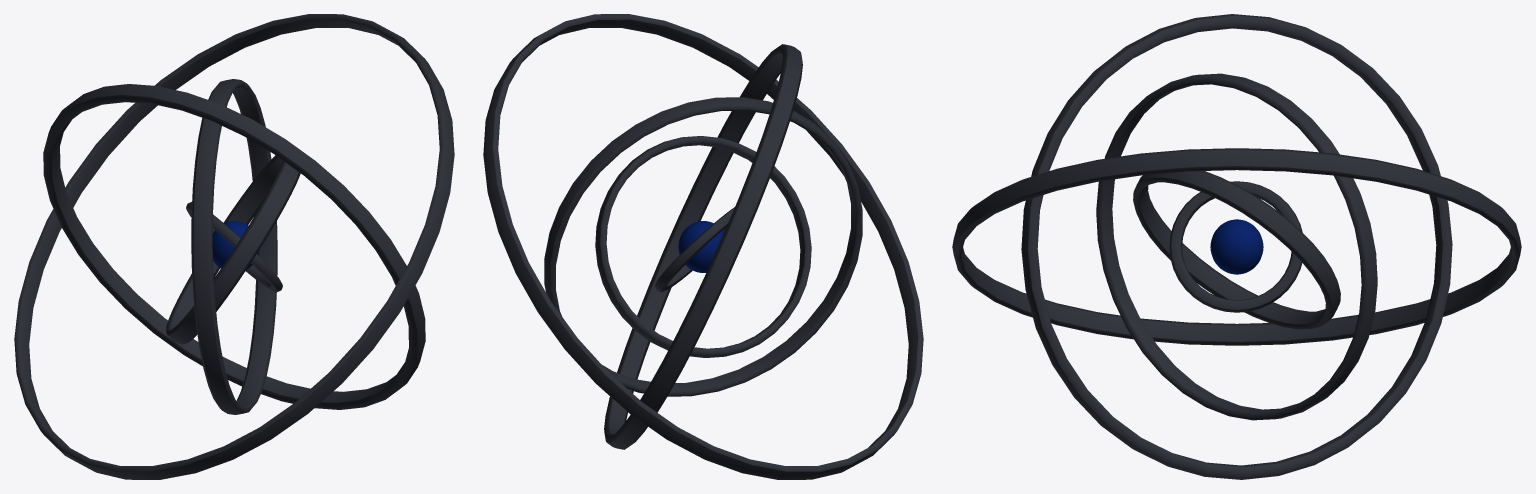
The model's file is P_Elipse.fbx.
The picture shows the model from 3 angles, left to right: view 1: azimuth 30°, elevation 25°; view 2: azimuth 150°, elevation 25°; view 3: azimuth 270°, elevation 25°; orthographic projection. The views are drawn at different scales.
Parts seen in each view (by area): view 1: P_ellipse.001, P_ellipse.003, P_ellipse.002, P_ellipse.004, P_ellipse.005, P_Center_ellipse; view 2: P_ellipse.001, P_ellipse.003, P_ellipse.002, P_ellipse.004, P_ellipse.005, P_Center_ellipse; view 3: P_ellipse.001, P_ellipse.003, P_ellipse.002, P_ellipse.004, P_ellipse.005, P_Center_ellipse.
Boxes of the visible parts, x1,y1,x2,y2 form: P_ellipse.001: (14, 14, 454, 479); P_ellipse.003: (43, 84, 425, 409); P_ellipse.002: (191, 79, 277, 414); P_ellipse.004: (166, 155, 300, 344); P_ellipse.005: (186, 202, 282, 292); P_Center_ellipse: (212, 221, 259, 269); P_ellipse.001: (483, 14, 923, 479); P_ellipse.003: (604, 44, 802, 449); P_ellipse.002: (544, 97, 862, 396); P_ellipse.004: (595, 136, 811, 357); P_ellipse.005: (655, 207, 734, 292); P_Center_ellipse: (678, 221, 724, 272); P_ellipse.001: (952, 148, 1521, 345); P_ellipse.003: (1021, 14, 1452, 479); P_ellipse.002: (1096, 73, 1377, 420); P_ellipse.004: (1133, 171, 1340, 329); P_ellipse.005: (1169, 181, 1302, 312); P_Center_ellipse: (1210, 219, 1263, 274).
Bounding box in the file's own units: 1508 × 1522 × 2025.
